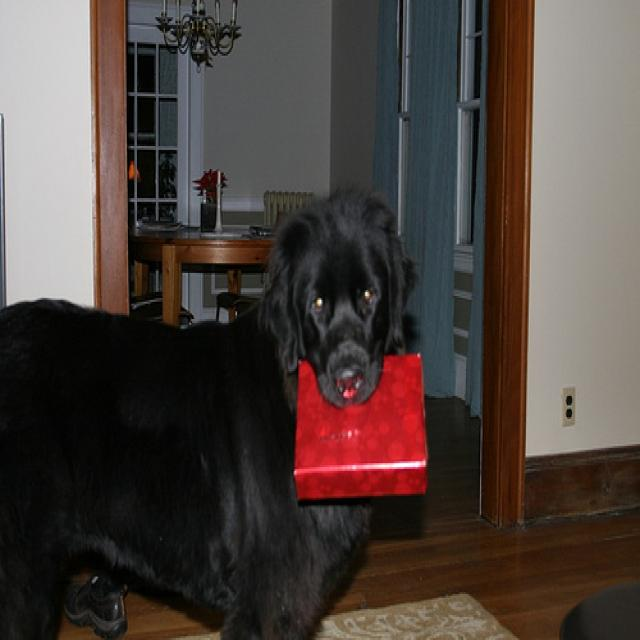dog-newfoundland: (1, 177, 419, 636)
